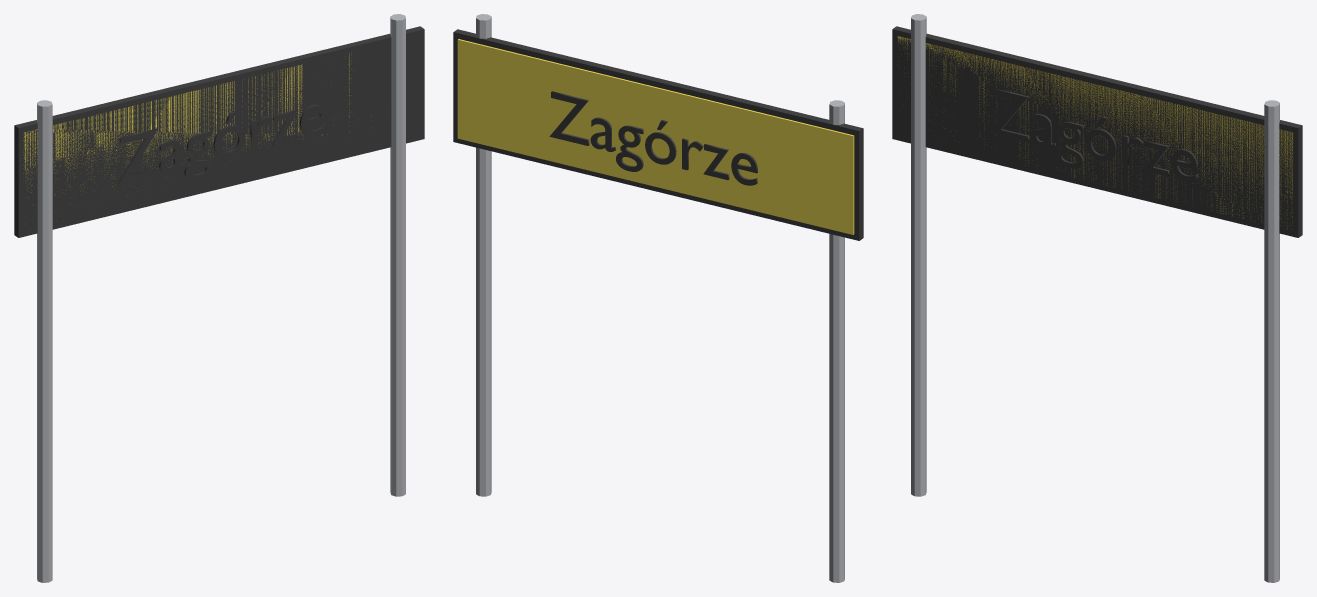
Rendered from Tablica_Zagorze.fbx.
3 views of the same model, side by side, from view 1: azimuth 30°, elevation 25°; view 2: azimuth 150°, elevation 25°; view 3: azimuth 330°, elevation 25° (orthographic).
Parts seen in each view (by area): view 1: Tablica_Zagorze; view 2: Tablica_Zagorze; view 3: Tablica_Zagorze.
Boxes of the visible parts, box(x1,y1,x2,y2) form: Tablica_Zagorze: box(14, 14, 424, 582); Tablica_Zagorze: box(453, 14, 863, 582); Tablica_Zagorze: box(892, 14, 1302, 582).
Size of the model in its own units: 2.32 by 2.6 by 0.108.
